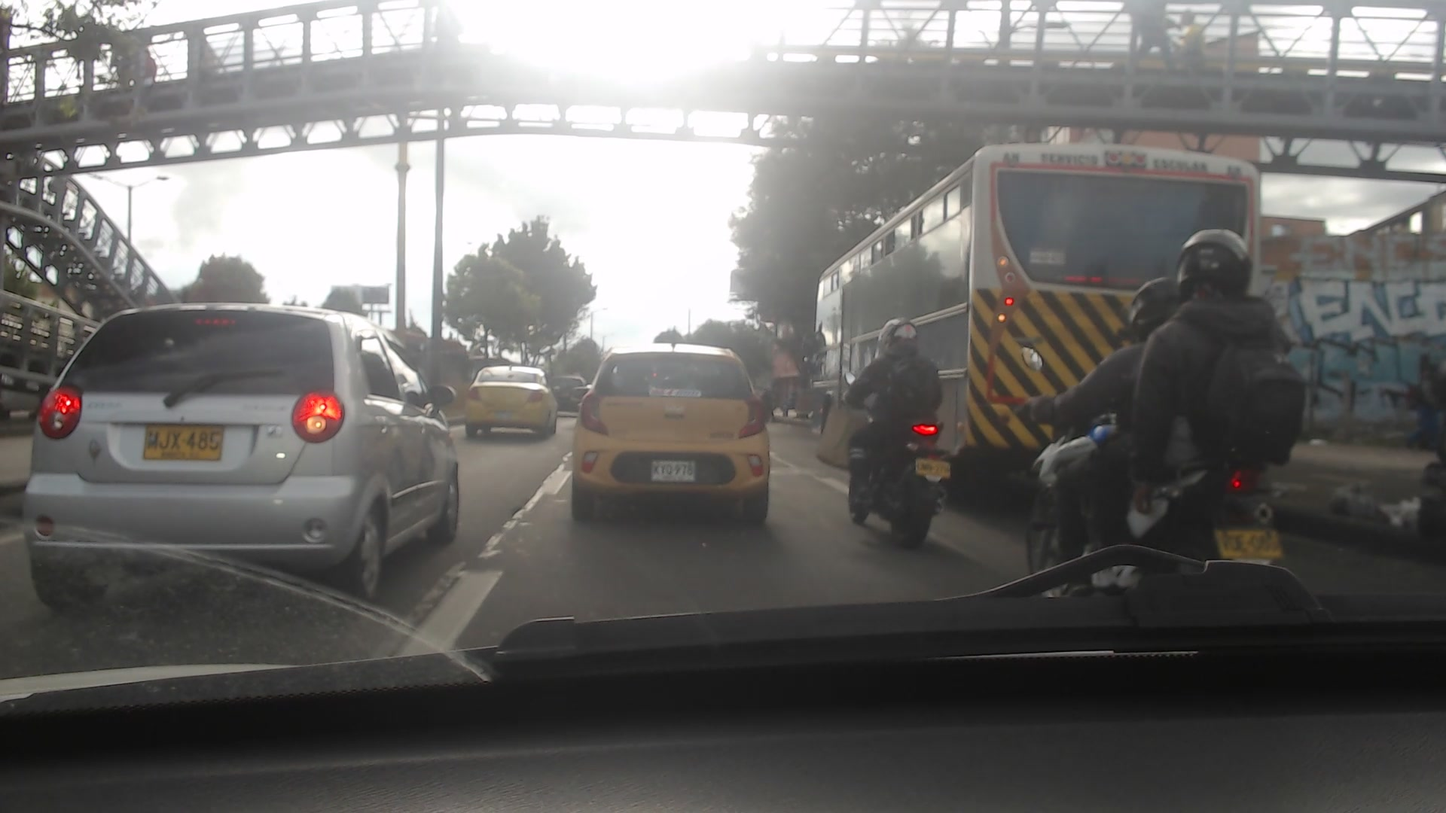bus: (812, 142, 1259, 509)
car: (24, 305, 470, 601), (568, 341, 772, 531), (465, 365, 559, 432)
motorcycle: (1000, 368, 1285, 620), (831, 383, 946, 547)
person: (1140, 222, 1287, 501), (847, 319, 947, 505)
